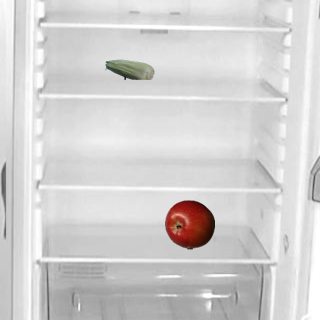Apple Braeburn: (164, 199, 214, 249)
Corn Husk: (104, 44, 154, 94)
